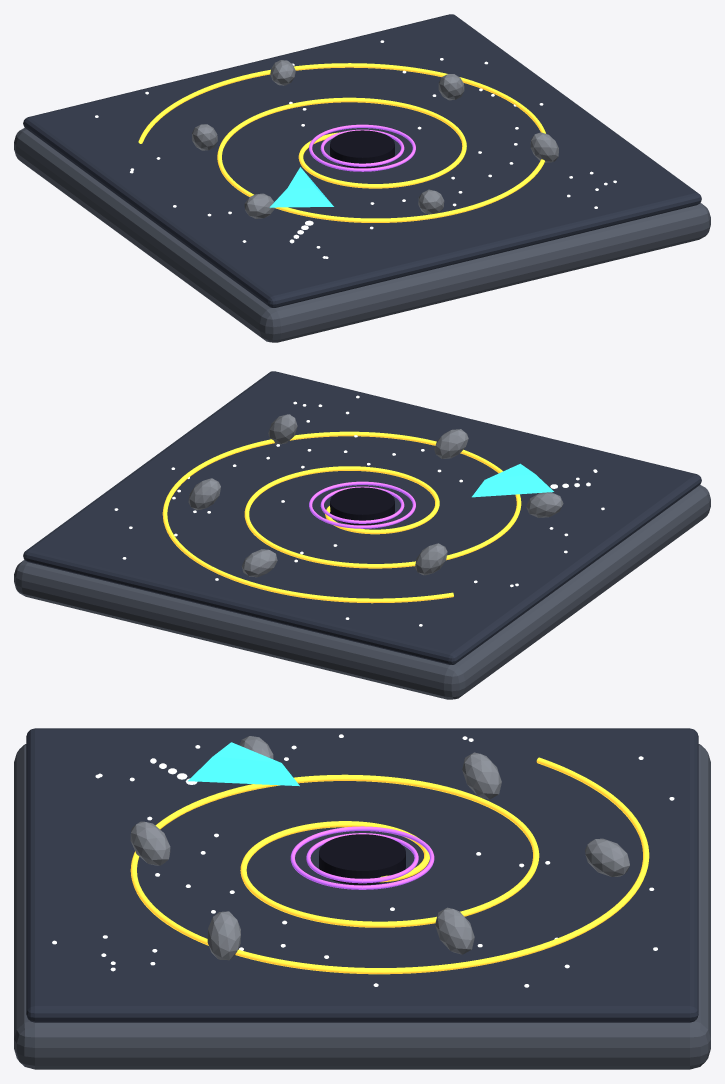
Rendered from Graviton.glb.
3 renders of one model, top to bottom at view 1: azimuth 30°, elevation 25°; view 2: azimuth 150°, elevation 25°; view 3: azimuth 270°, elevation 25°, orthographic. The views are drawn at different scales.
Parts seen in each view (by area): view 1: Night sky, Base, Orbital spiral, Black hole, Spacecraft, Accretion ring.001, Asteroid.005, Accretion ring, Asteroid.003, Asteroid, Asteroid.002, Asteroid.004 (+1 smaller); view 2: Night sky, Base, Orbital spiral, Black hole, Spacecraft, Accretion ring.001, Asteroid.002, Asteroid.004, Asteroid, Asteroid.003, Asteroid.001, Asteroid.005 (+1 smaller); view 3: Night sky, Base, Orbital spiral, Black hole, Spacecraft, Accretion ring.001, Asteroid.002, Asteroid, Asteroid.005, Asteroid.004, Asteroid.001, Accretion ring.
Part boxes in pixels (<box>): Night sky: <box>23,14,701,307</box>; Base: <box>14,128,710,342</box>; Orbital spiral: <box>138,63,545,222</box>; Black hole: <box>330,130,394,168</box>; Spacecraft: <box>269,167,333,207</box>; Accretion ring.001: <box>309,124,415,171</box>; Asteroid.005: <box>530,132,558,162</box>; Accretion ring: <box>320,129,404,166</box>; Asteroid.003: <box>244,193,274,218</box>; Asteroid: <box>438,74,464,100</box>; Asteroid.002: <box>192,124,217,150</box>; Asteroid.004: <box>418,189,444,214</box>; Night sky: <box>23,371,701,664</box>; Base: <box>14,485,710,699</box>; Orbital spiral: <box>162,431,521,603</box>; Black hole: <box>330,487,394,525</box>; Spacecraft: <box>472,463,553,497</box>; Accretion ring.001: <box>309,481,415,528</box>; Asteroid.002: <box>415,543,447,575</box>; Asteroid.004: <box>434,429,468,458</box>; Asteroid: <box>188,478,220,510</box>; Asteroid.003: <box>526,492,563,517</box>; Asteroid.001: <box>242,549,277,577</box>; Asteroid.005: <box>268,414,297,444</box>; Night sky: <box>26,728,698,1022</box>; Base: <box>14,744,710,1069</box>; Orbital spiral: <box>130,757,649,974</box>; Black hole: <box>319,834,405,885</box>; Spacecraft: <box>188,742,299,786</box>; Accretion ring.001: <box>290,826,434,889</box>; Asteroid.002: <box>462,752,501,799</box>; Asteroid: <box>435,907,474,954</box>; Asteroid.005: <box>207,911,240,960</box>; Asteroid.004: <box>130,821,170,865</box>; Asteroid.001: <box>585,838,629,876</box>; Accretion ring: <box>306,833,418,883</box>.
Bounding box in the file's own units: 4 × 0.67 × 4.
